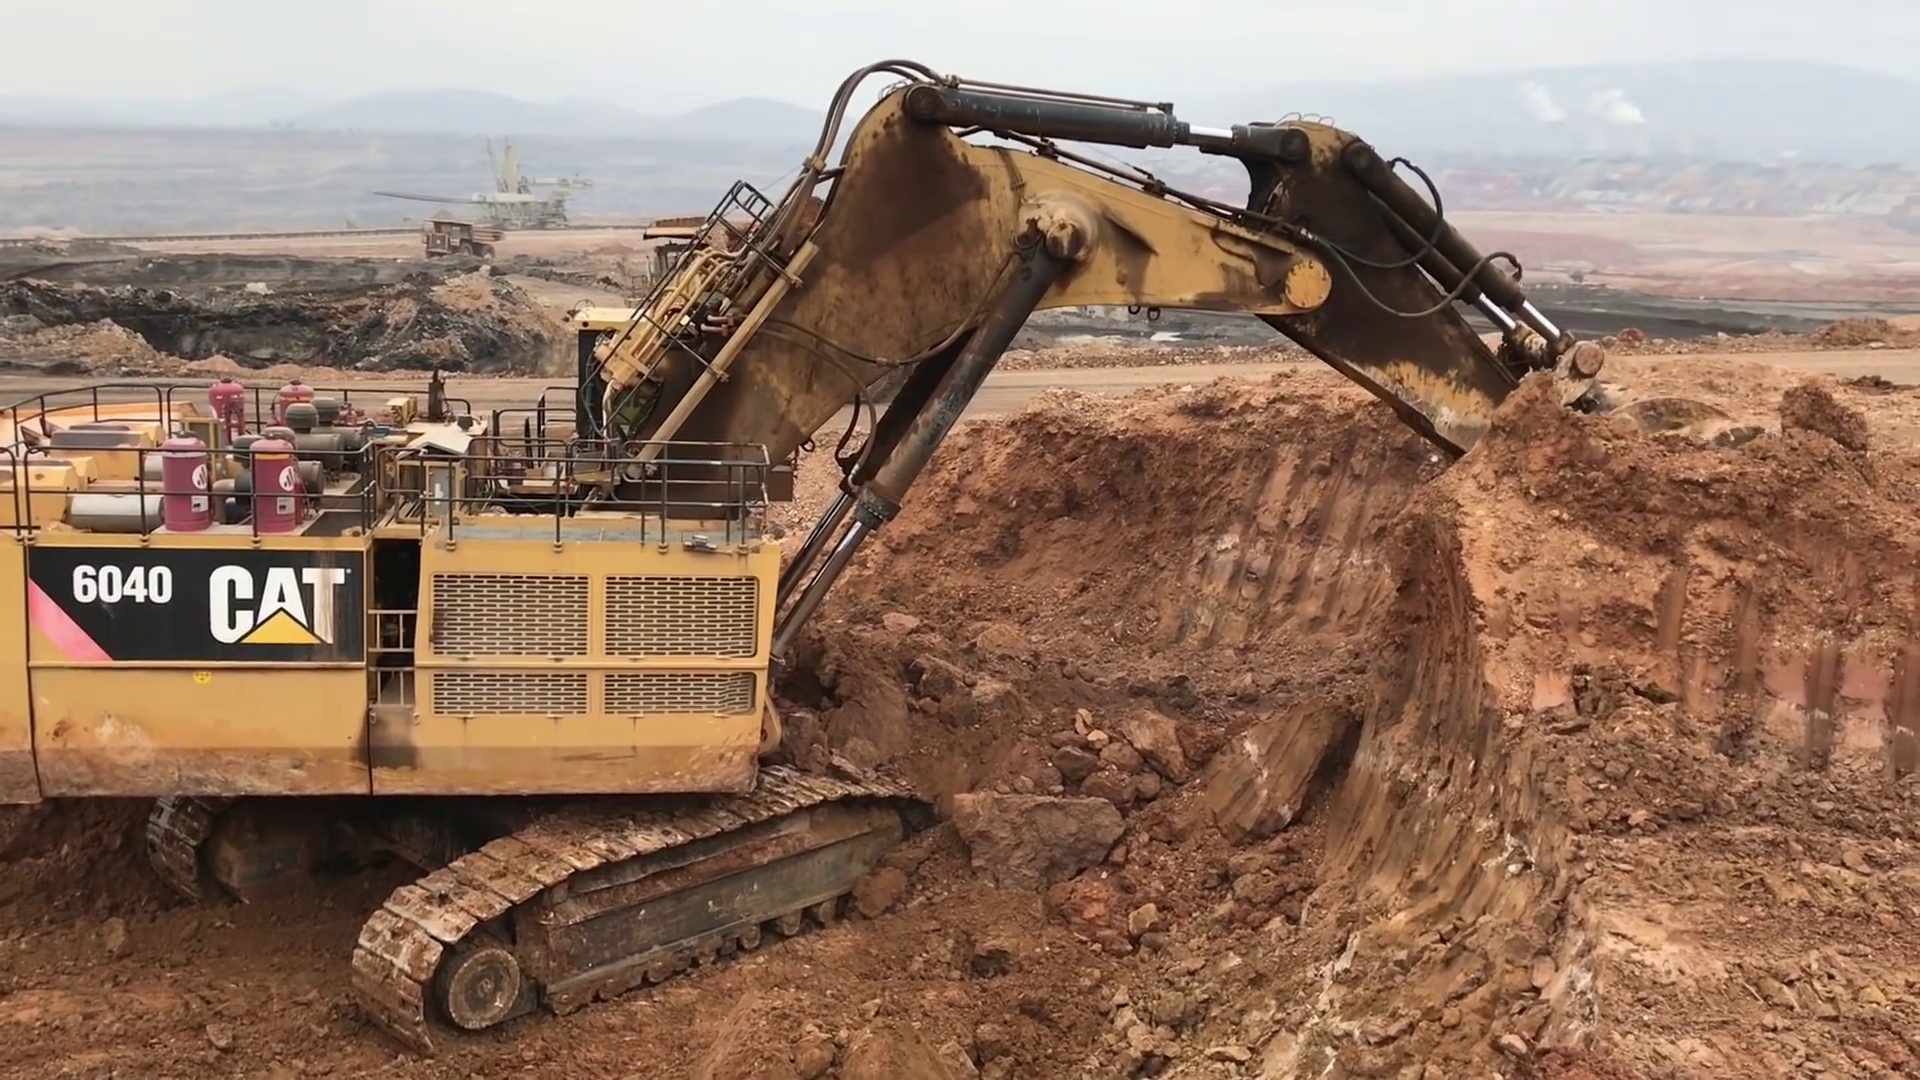excavator: (5, 51, 1793, 1047)
